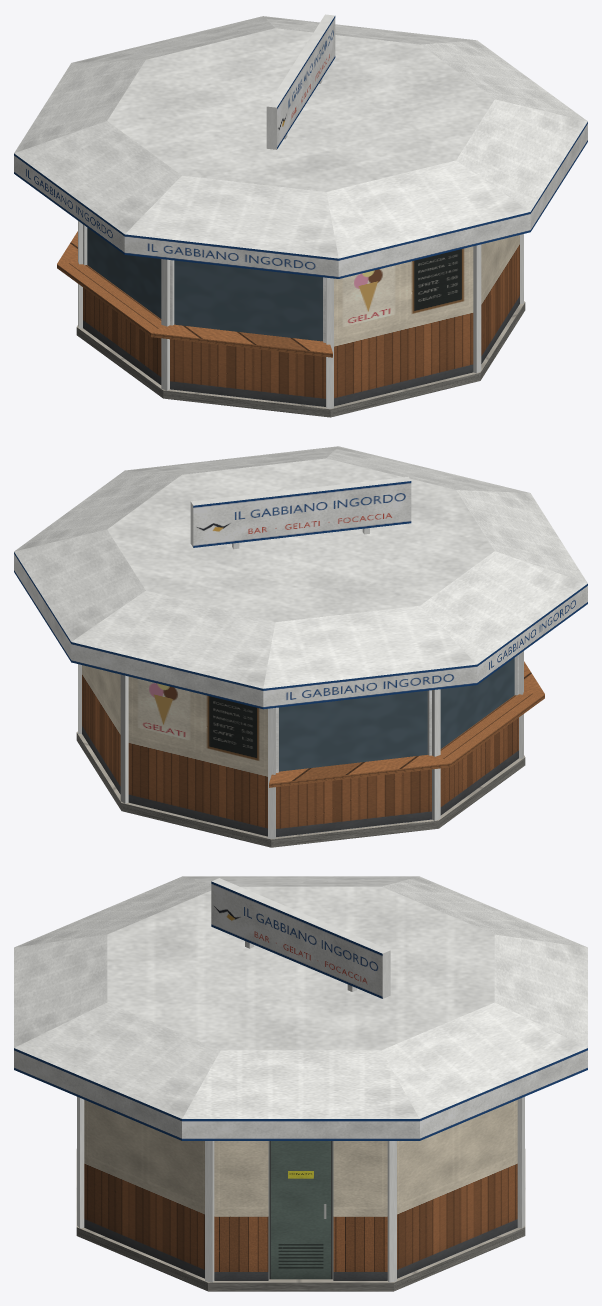
Rendered from SM_Morin_ChioscoOttagonale_v3_LOD1.fbx.
The picture shows the model from 3 angles, top to bottom: view 1: azimuth 30°, elevation 25°; view 2: azimuth 150°, elevation 25°; view 3: azimuth 270°, elevation 25°; orthographic projection. The views are drawn at different scales.
Visible parts, largest first — view 1: SM_Morin_ChioscoOttagonale_v3_LOD1; view 2: SM_Morin_ChioscoOttagonale_v3_LOD1; view 3: SM_Morin_ChioscoOttagonale_v3_LOD1.
Part boxes in pixels (bbox=[...]): SM_Morin_ChioscoOttagonale_v3_LOD1: bbox=[14, 14, 587, 417]; SM_Morin_ChioscoOttagonale_v3_LOD1: bbox=[14, 446, 587, 847]; SM_Morin_ChioscoOttagonale_v3_LOD1: bbox=[14, 876, 587, 1291].
Bounding box in the file's own units: 711 × 711 × 384.
2 materials, 2 textured.
